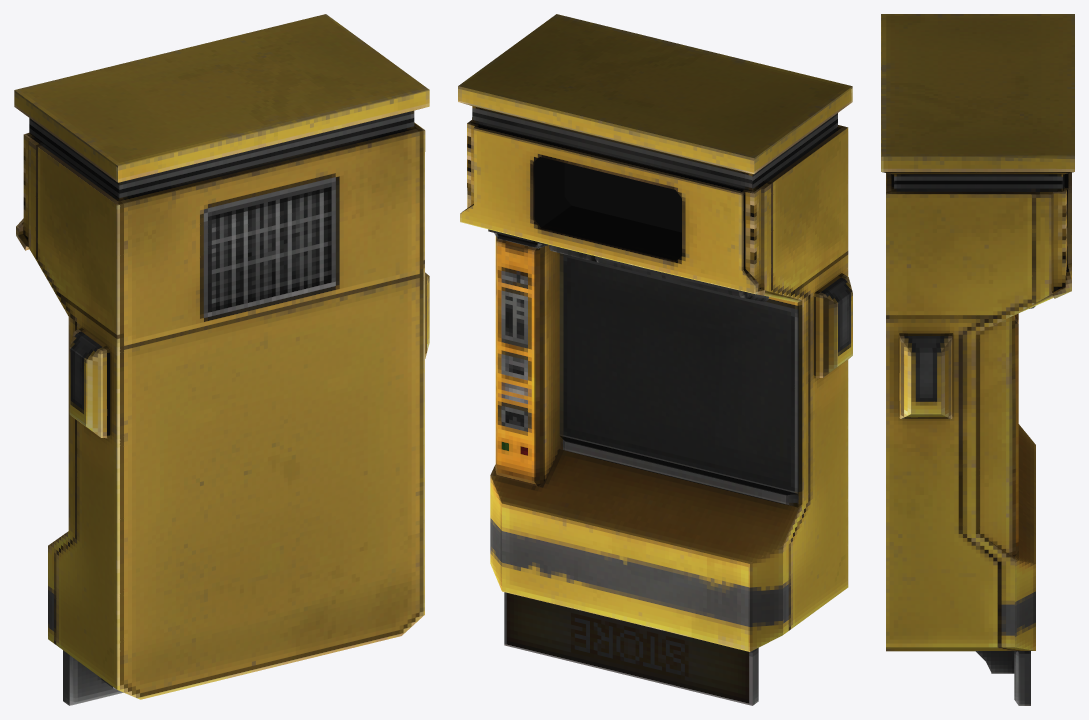
Rendered from terminal.obj.
3 renders of one model, left to right at view 1: azimuth 30°, elevation 25°; view 2: azimuth 150°, elevation 25°; view 3: azimuth 270°, elevation 25°, orthographic. The views are drawn at different scales.
Visible parts, largest first — view 1: ShopTerminal_0; view 2: ShopTerminal_0; view 3: ShopTerminal_0.
Part boxes in pixels (x1,y1,x2,y2): ShopTerminal_0: [14, 14, 429, 705]; ShopTerminal_0: [458, 14, 852, 705]; ShopTerminal_0: [881, 14, 1074, 705].
Bounding box in the file's own units: 0.507 × 0.8456 × 0.2648.
1 material, 1 textured.
